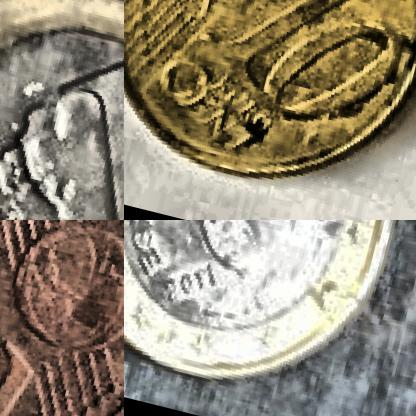coin: (124, 0, 415, 213), (124, 220, 415, 415), (0, 0, 123, 219), (0, 220, 123, 415)
